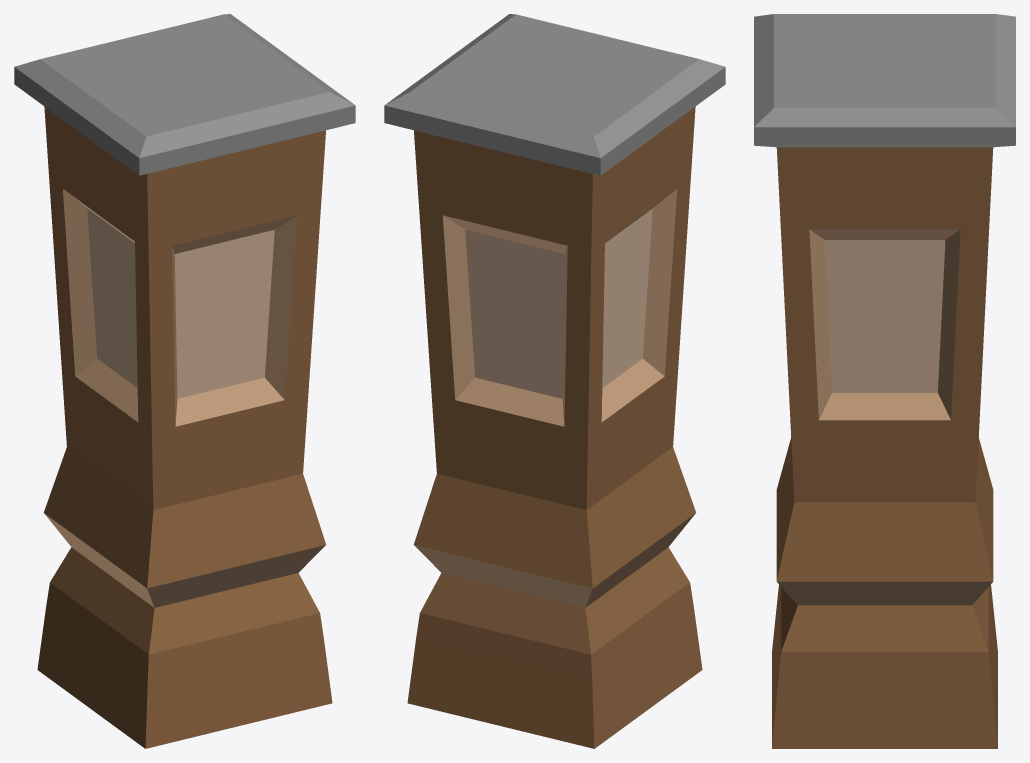
Rendered from itempillar.glb.
3 renders of one model, left to right at view 1: azimuth 30°, elevation 25°; view 2: azimuth 150°, elevation 25°; view 3: azimuth 270°, elevation 25°, orthographic. The views are drawn at different scales.
Parts seen in each view (by area): view 1: Cube; view 2: Cube; view 3: Cube.
Part boxes in pixels (bbox=[...]): Cube: bbox=[14, 14, 355, 748]; Cube: bbox=[384, 14, 725, 748]; Cube: bbox=[754, 14, 1015, 748].
Size of the model in its own units: 0.7013 by 1.89 by 0.7013.
1 material, 1 textured.
